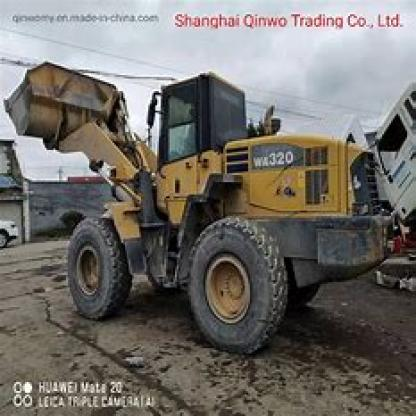bull_dozer/loader/grader: (5, 50, 400, 355)
